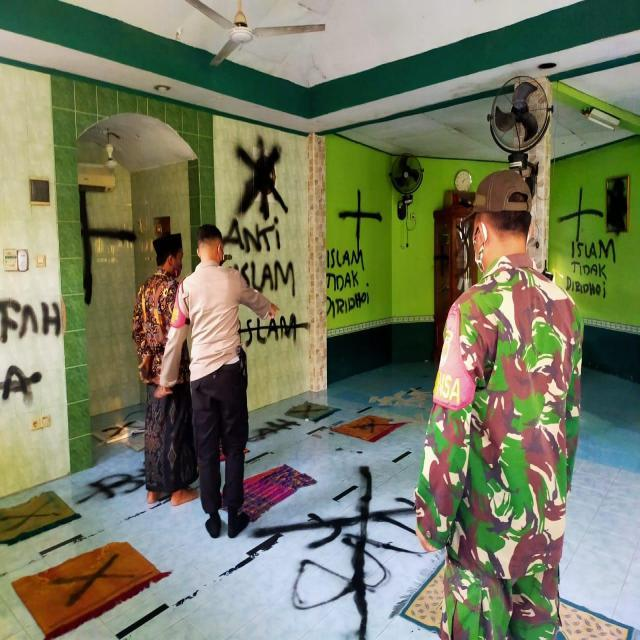nonspitting: (252, 465, 416, 640), (222, 136, 310, 349), (328, 191, 383, 320), (79, 190, 137, 306), (558, 186, 618, 298), (0, 297, 62, 405), (54, 552, 134, 605), (0, 496, 60, 534), (88, 464, 146, 503), (249, 416, 301, 444), (354, 416, 391, 436), (100, 421, 138, 438), (290, 404, 324, 418)
